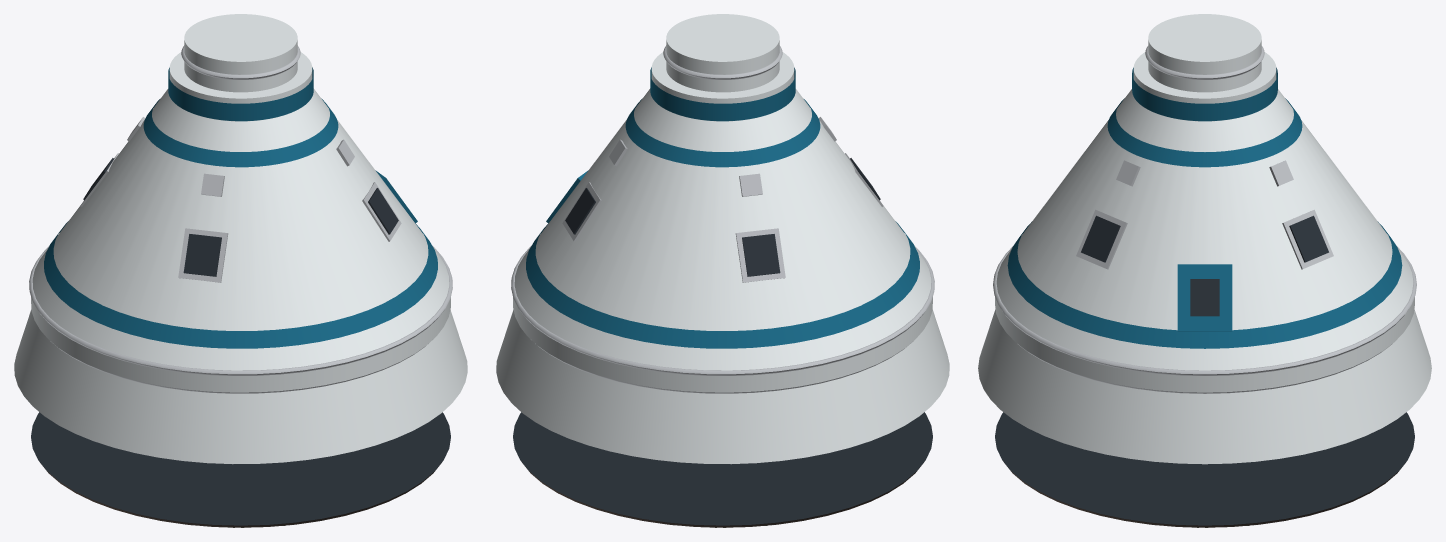
File: tps_pica_ablator.glb
The picture shows the model from 3 angles, left to right: view 1: azimuth 30°, elevation 25°; view 2: azimuth 150°, elevation 25°; view 3: azimuth 270°, elevation 25°; orthographic projection.
Visible parts, largest first — view 1: tps_pica_ablator_mesh; view 2: tps_pica_ablator_mesh; view 3: tps_pica_ablator_mesh.
Boxes of the visible parts, bbox=[...] form: tps_pica_ablator_mesh: bbox=[14, 14, 467, 527]; tps_pica_ablator_mesh: bbox=[496, 14, 949, 527]; tps_pica_ablator_mesh: bbox=[978, 14, 1431, 527].
Size of the model in its own units: 5.4 by 5.81 by 5.4.
